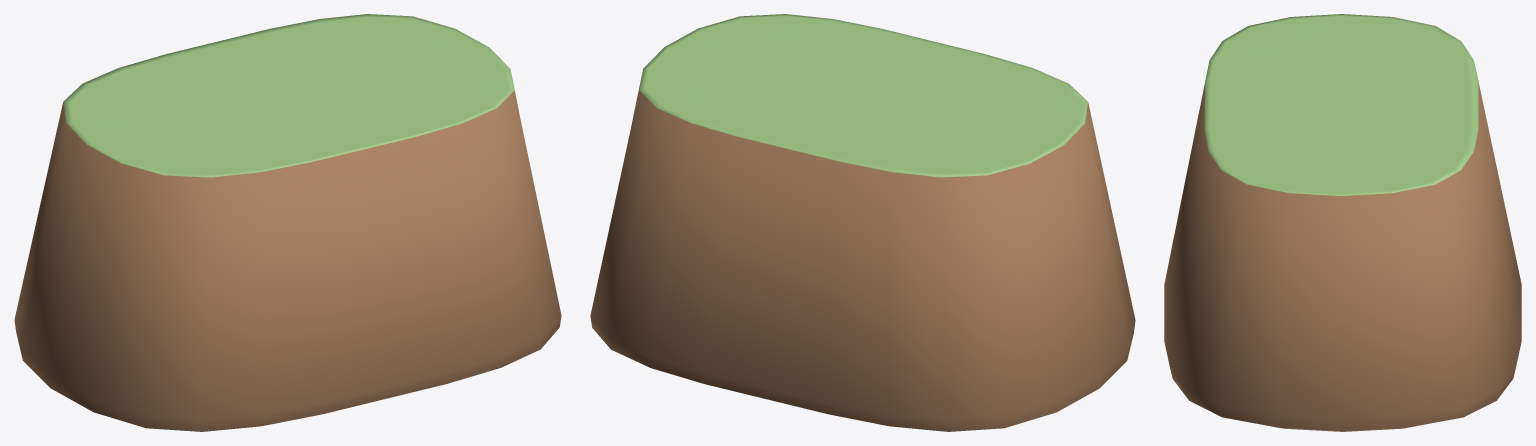
Rendered from island_large.glb.
The picture shows the model from 3 angles, left to right: view 1: azimuth 30°, elevation 25°; view 2: azimuth 150°, elevation 25°; view 3: azimuth 270°, elevation 25°; orthographic projection. The views are drawn at different scales.
Visible parts, largest first — view 1: RockPlatforms_Large; view 2: RockPlatforms_Large; view 3: RockPlatforms_Large.
Boxes of the visible parts, left/top/right/bottom form: RockPlatforms_Large: left=14, top=14, right=561, bottom=431; RockPlatforms_Large: left=590, top=14, right=1135, bottom=431; RockPlatforms_Large: left=1164, top=14, right=1521, bottom=431.
Bounding box in the file's own units: 7.38 × 3.63 × 5.16.
